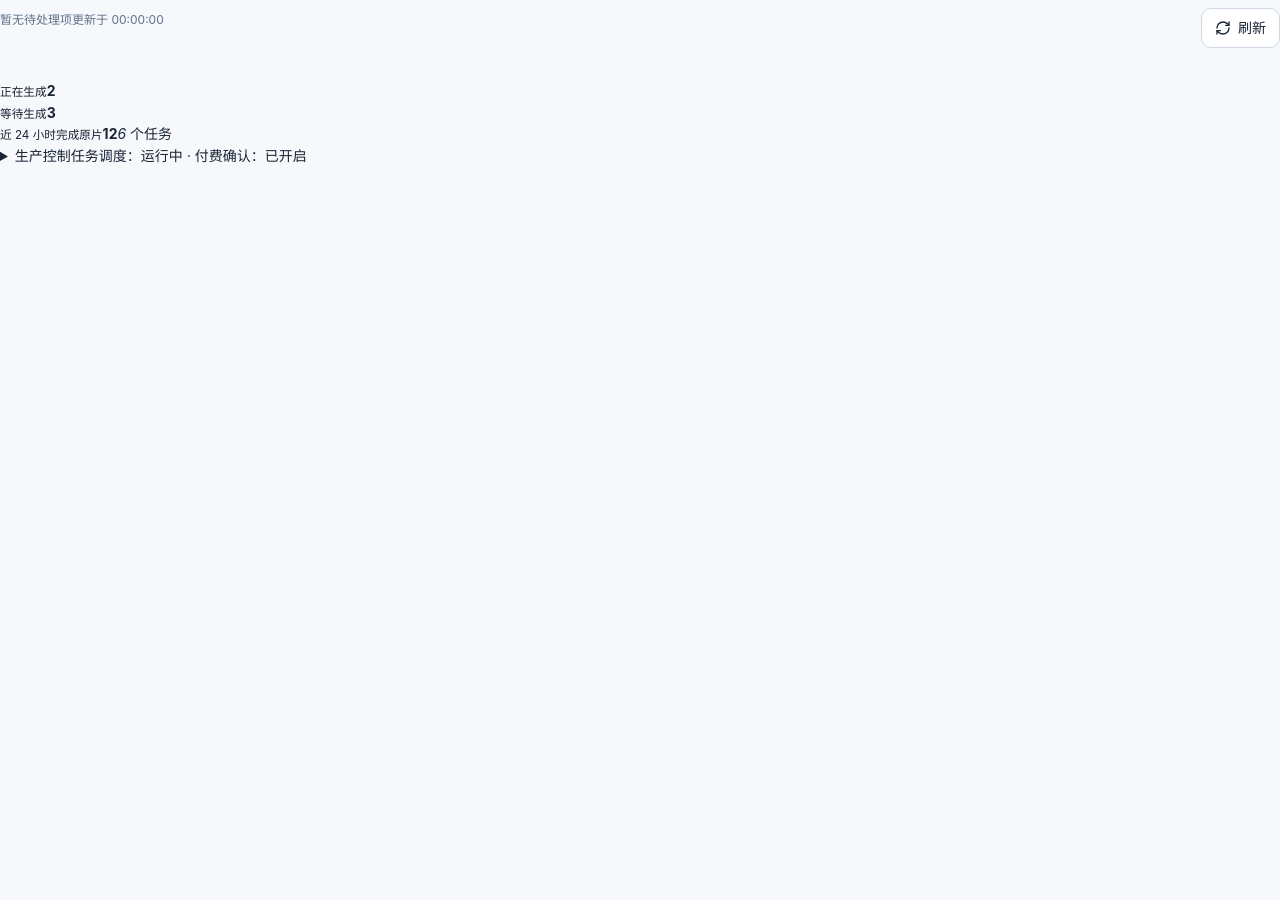
Scenario: compact operations overview › requires explicit confirmation before pausing paid work
This screenshot has width=1280, height=900.
Later steps or results of the test are not shown.
Click the heading at (161, 156), box [15,147,307,164]
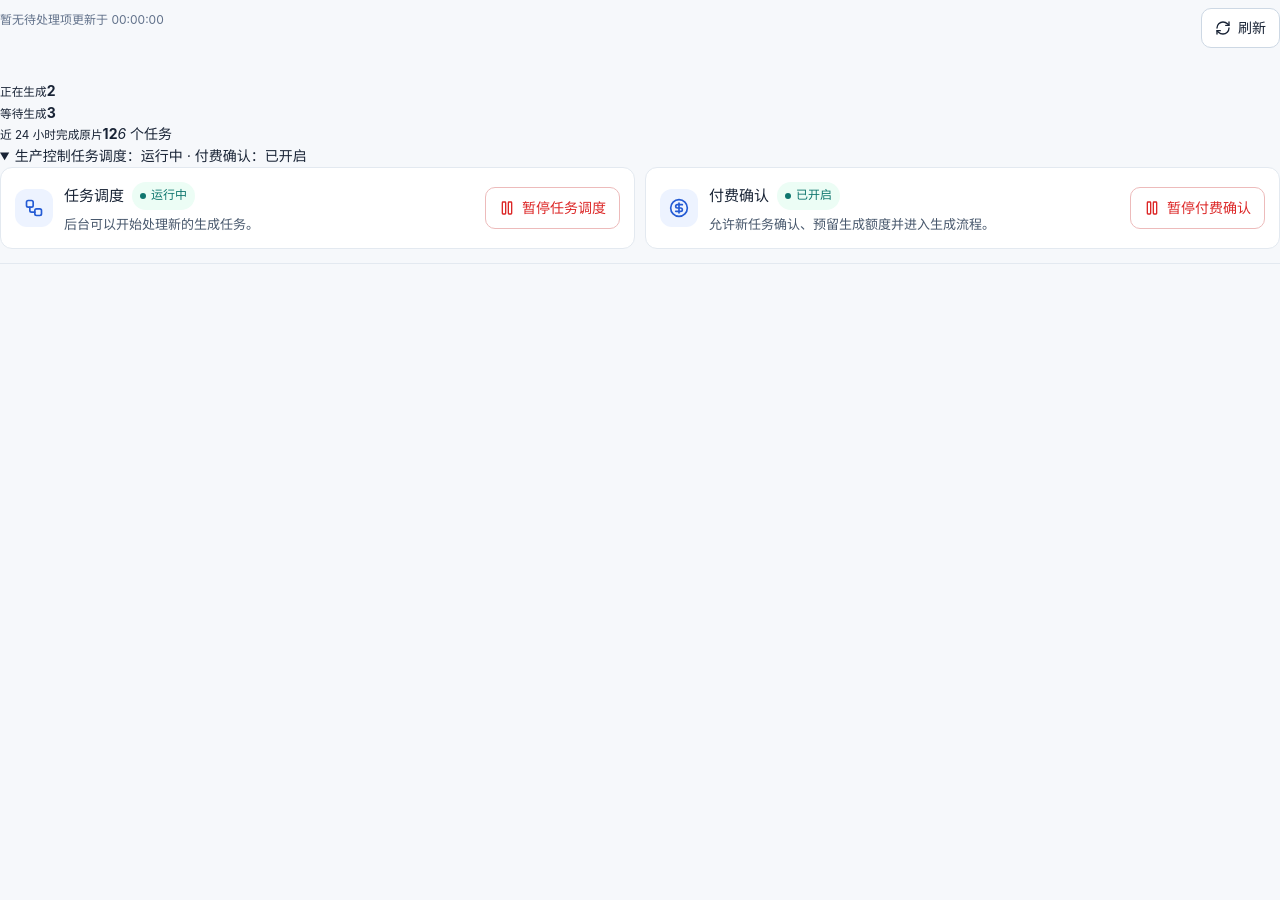
Click the button with class "ops-control-action" showing "暂停付费确认" at (1198, 208), box [1130,187,1265,229]
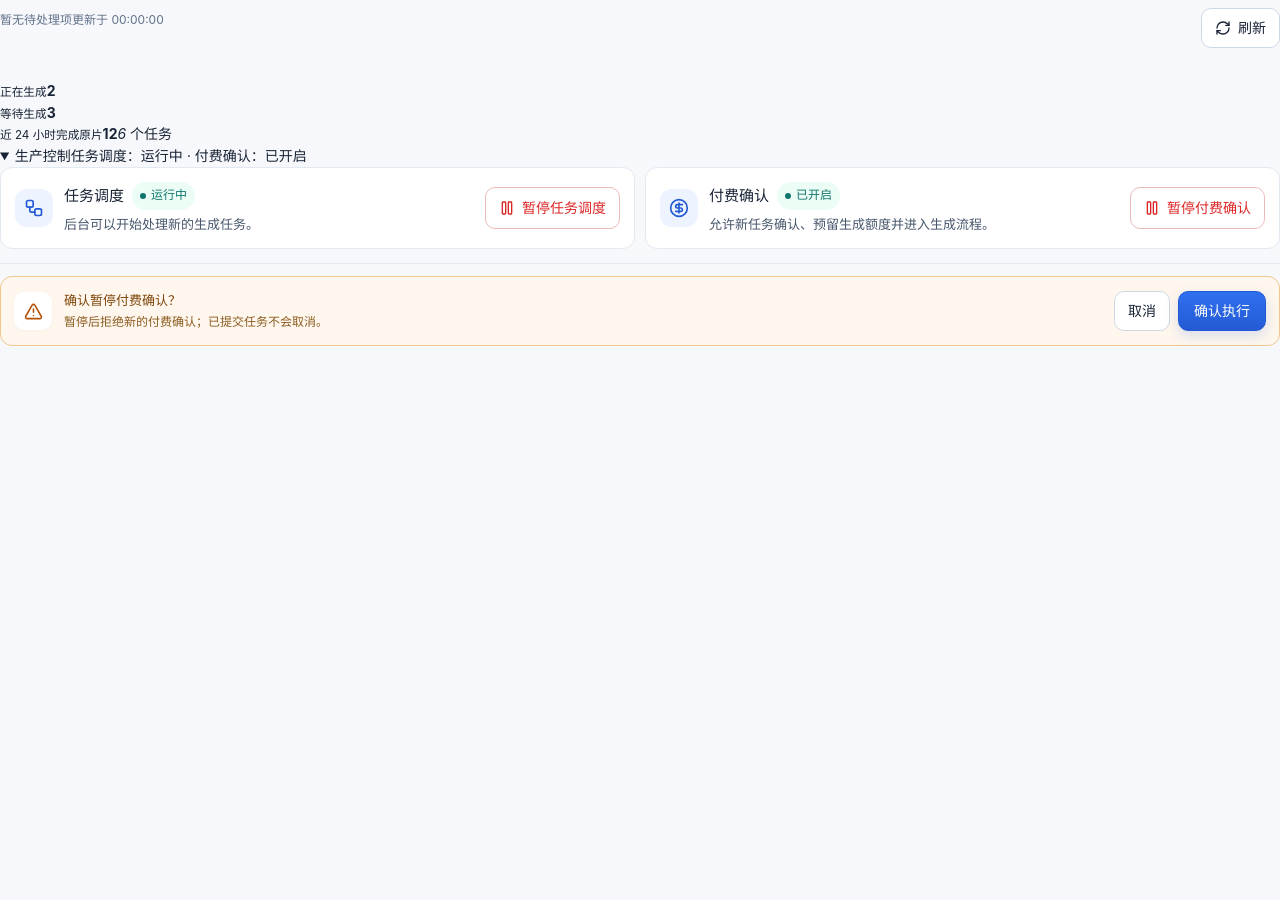
Now the dialog is shown, box [0,276,1279,346]
